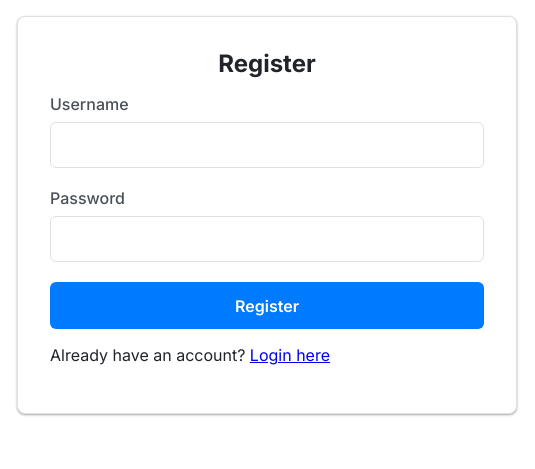
Scenario: Register Page › displays error if password is too short
This screenshot has width=535, height=469.
Type "newuser" into the field labelled "Username" at (267, 145), box [50,122,484,168]
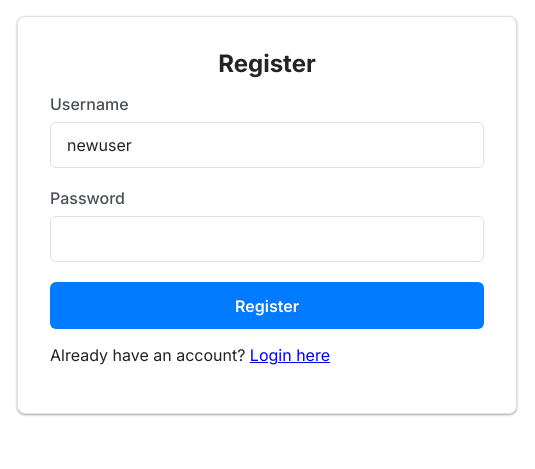
Type "12345" into the password field labelled "Password" at (267, 239), box [50,216,484,262]
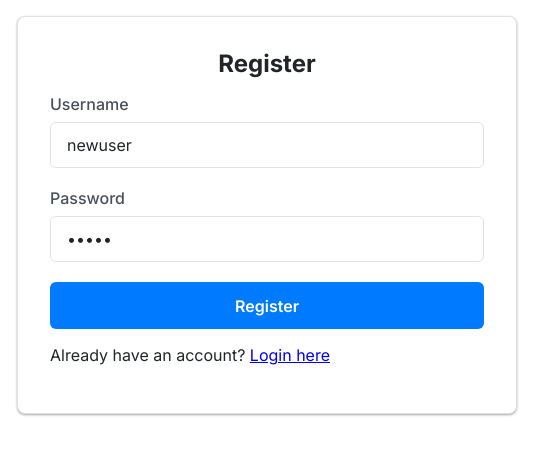
Click the button "Register" at (267, 306), box [50,282,484,329]
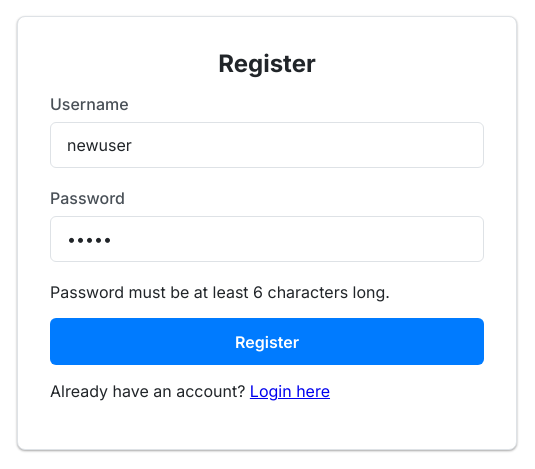
Now the text "Password must be at least 6 characters long." is shown, box [50,282,390,302]
